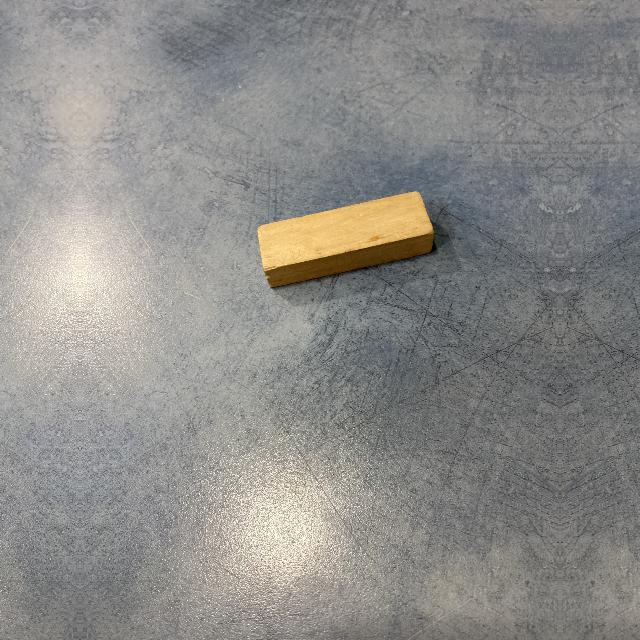jenga: (260, 190, 436, 290)
